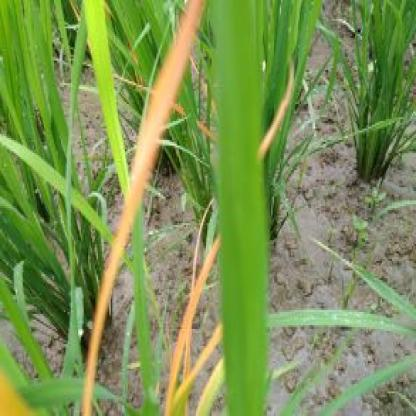Tungro: (91, 14, 174, 404)
